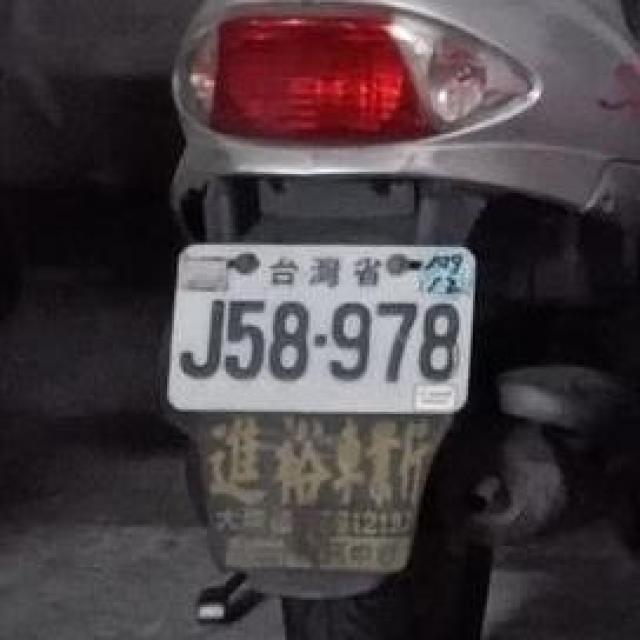W: (158, 226, 490, 433)
